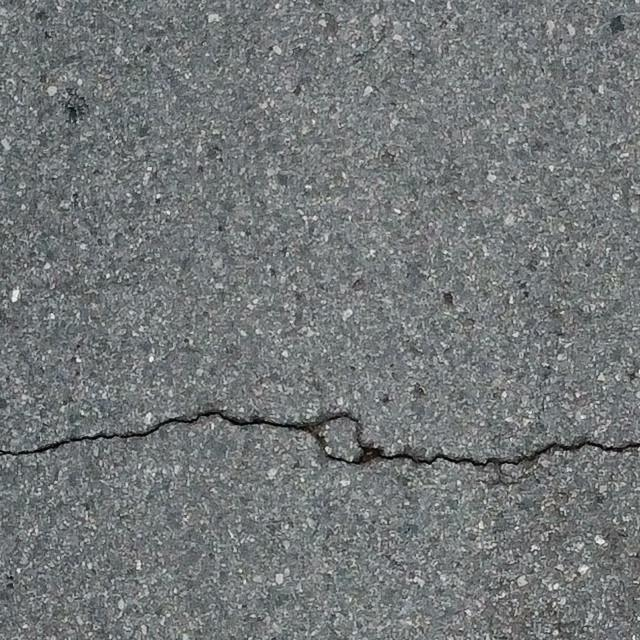TransverseCrack: (1, 410, 640, 468)
